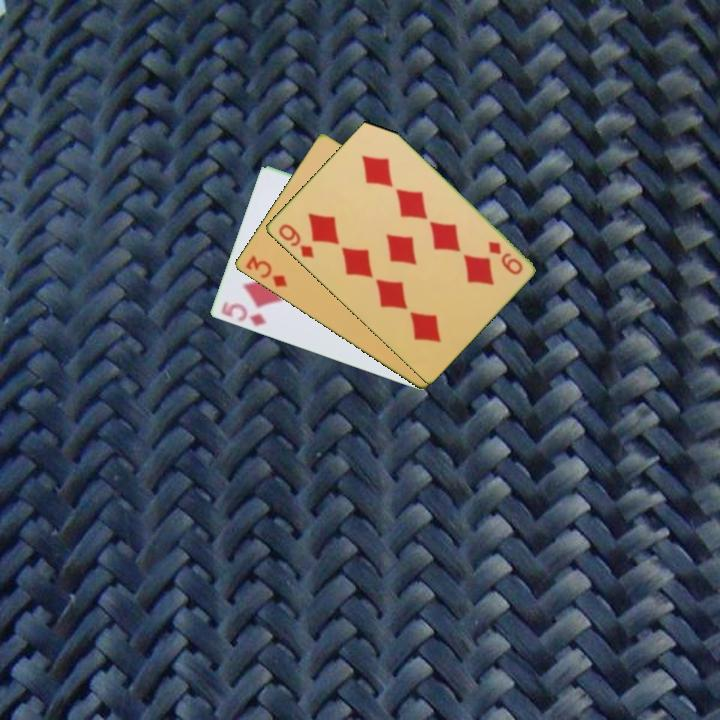3d: (242, 252, 290, 290)
5d: (217, 298, 268, 330)
9d: (274, 220, 316, 261), (484, 237, 526, 278)
